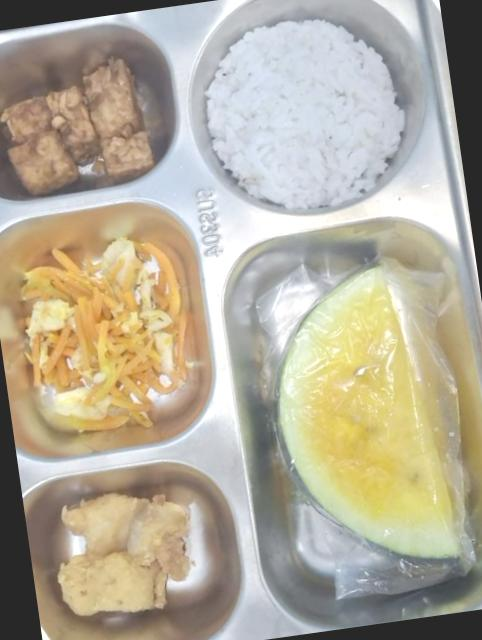ayam: (57, 493, 189, 616)
buah: (278, 266, 458, 558)
nasi: (205, 20, 404, 209)
sayur: (21, 237, 186, 431)
tempe: (0, 59, 147, 196)
